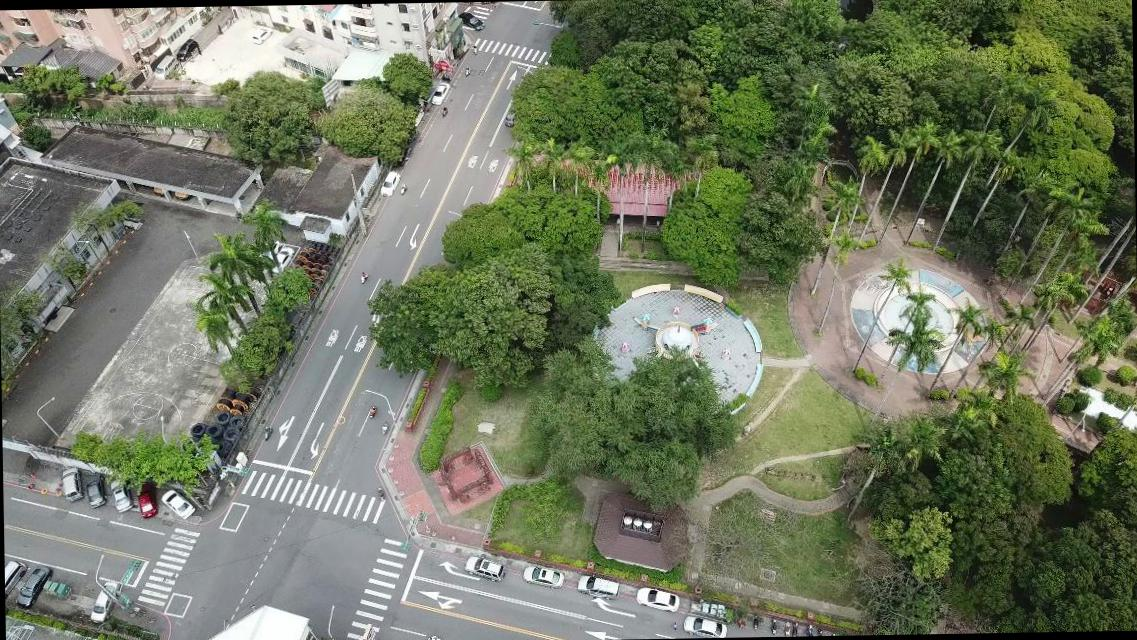vehicle: (14, 562, 53, 609), (90, 580, 122, 624), (160, 488, 196, 522), (636, 586, 680, 613), (576, 574, 621, 599), (464, 555, 505, 582), (682, 613, 728, 637), (5, 556, 28, 600), (524, 564, 564, 589), (110, 476, 134, 514), (84, 470, 108, 506), (60, 466, 84, 501), (136, 482, 158, 518), (270, 247, 295, 275), (378, 170, 401, 196), (154, 53, 176, 80), (175, 38, 198, 61), (261, 238, 280, 265), (430, 81, 451, 105), (459, 12, 485, 30), (252, 26, 273, 46), (504, 105, 516, 126)
